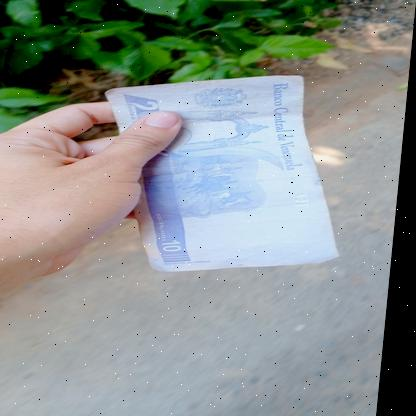ten-back-vef: (93, 76, 361, 272)
